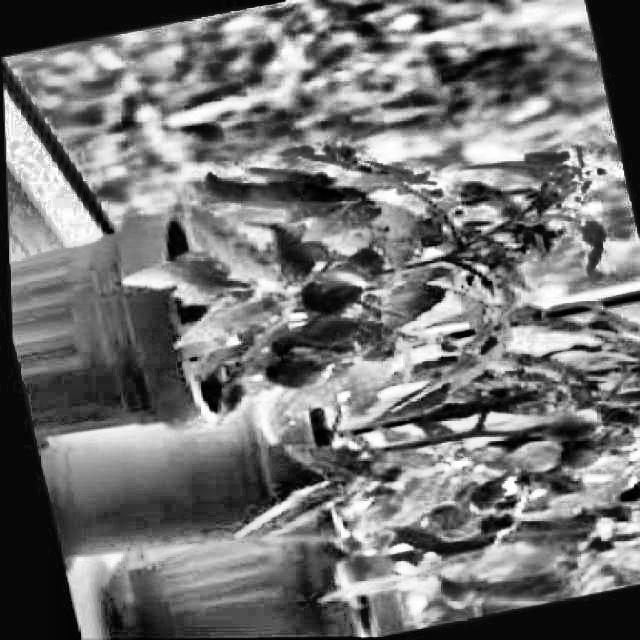plants: (1, 81, 638, 466), (23, 288, 639, 596), (72, 432, 638, 638)
